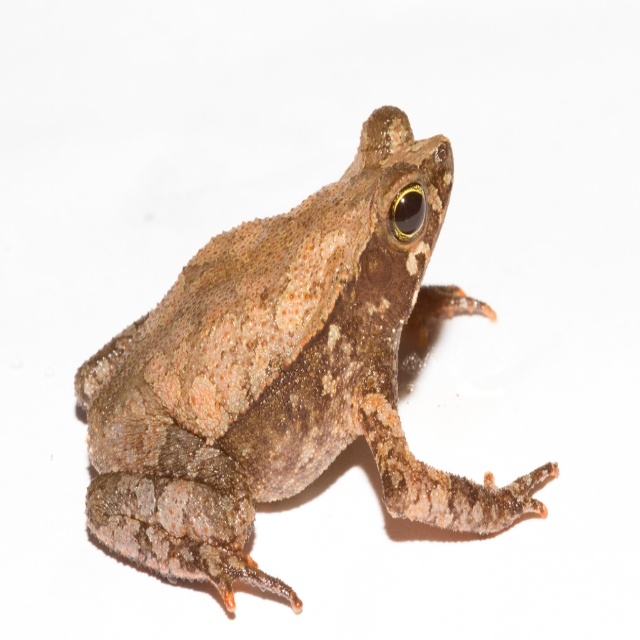Frog: (72, 105, 560, 616)
